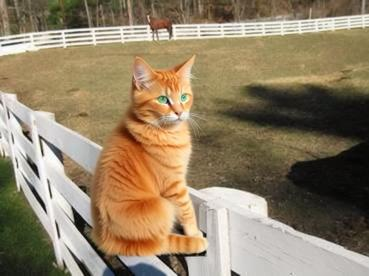cat: (90, 54, 206, 256)
horse: (145, 13, 175, 43)
